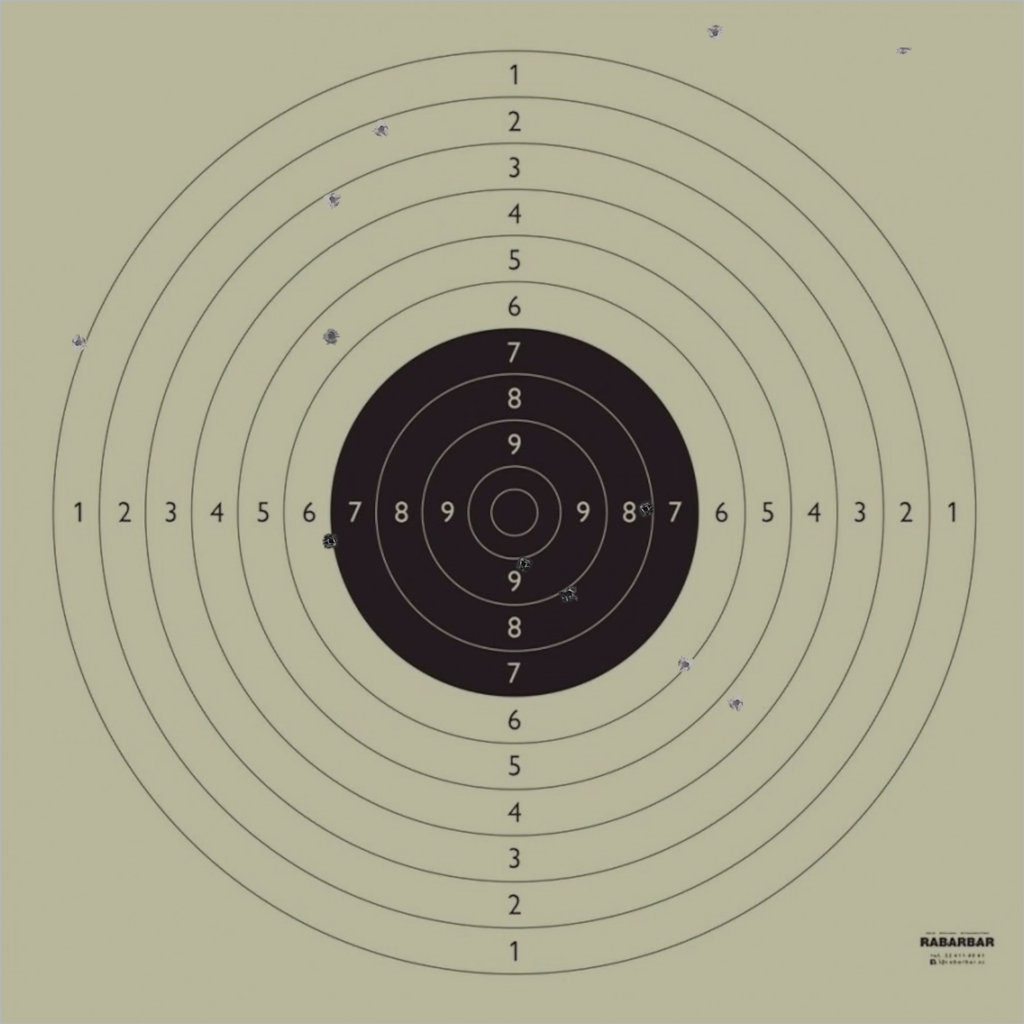0 punktow: (894, 37, 913, 56)
1 punkt: (69, 333, 88, 352)
10 punktow: (514, 554, 533, 573)
2 punkty: (372, 120, 391, 138)
3 punkty: (324, 190, 342, 209)
4 punkty: (727, 694, 746, 712)
5 punktow: (322, 327, 341, 345)
6 punktow: (676, 655, 695, 674)
7 punktow: (322, 532, 341, 551)
8 punktow: (636, 500, 654, 518)
9 punktow: (559, 585, 577, 603)
